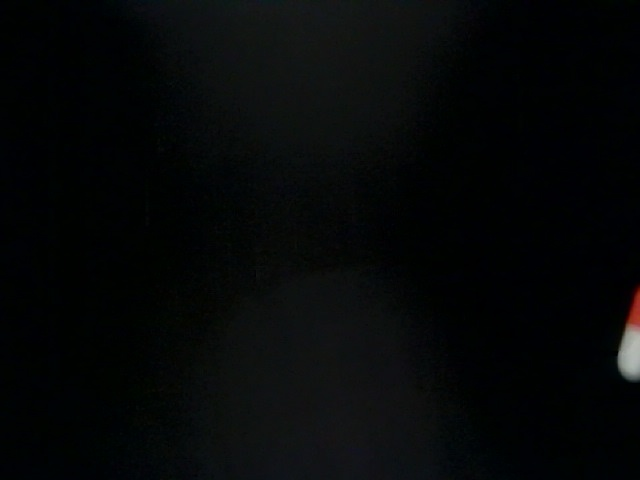YHLJ: (227, 386, 524, 479)
